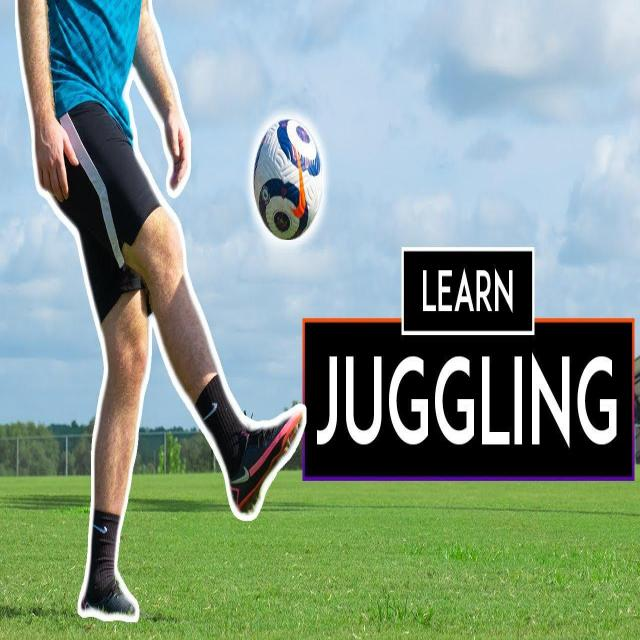ball: (245, 107, 332, 246)
